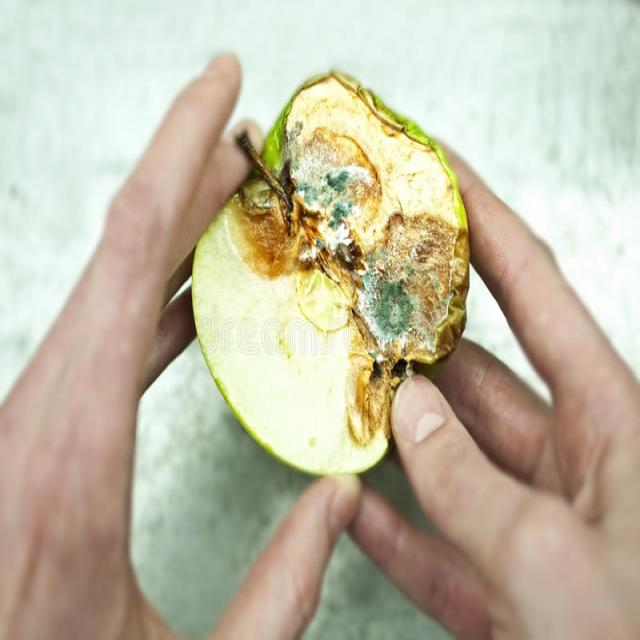Rotten: (191, 64, 477, 540)
